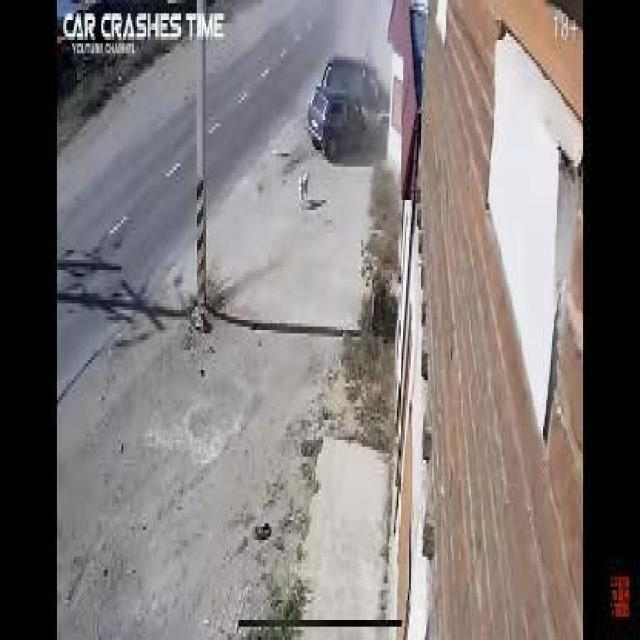accident: (303, 50, 411, 167)
